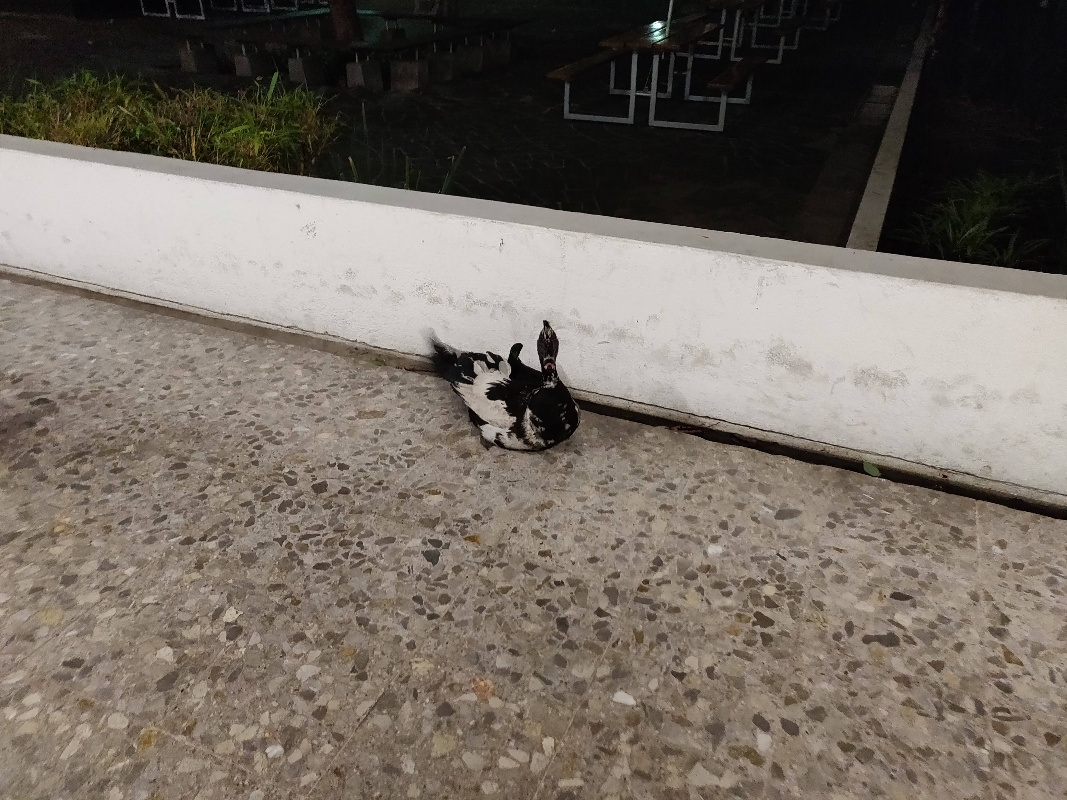pato: (436, 326, 568, 457)
